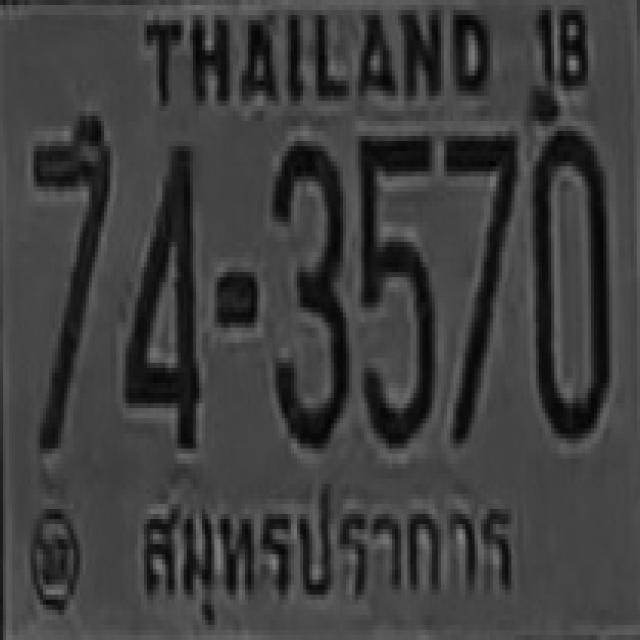0: (528, 128, 608, 436)
3: (270, 136, 346, 444)
4: (123, 139, 199, 446)
5: (355, 131, 432, 443)
7: (31, 111, 110, 448), (441, 131, 514, 438), (441, 131, 514, 403), (441, 128, 514, 370)
SamutPrakan: (138, 483, 526, 622)
